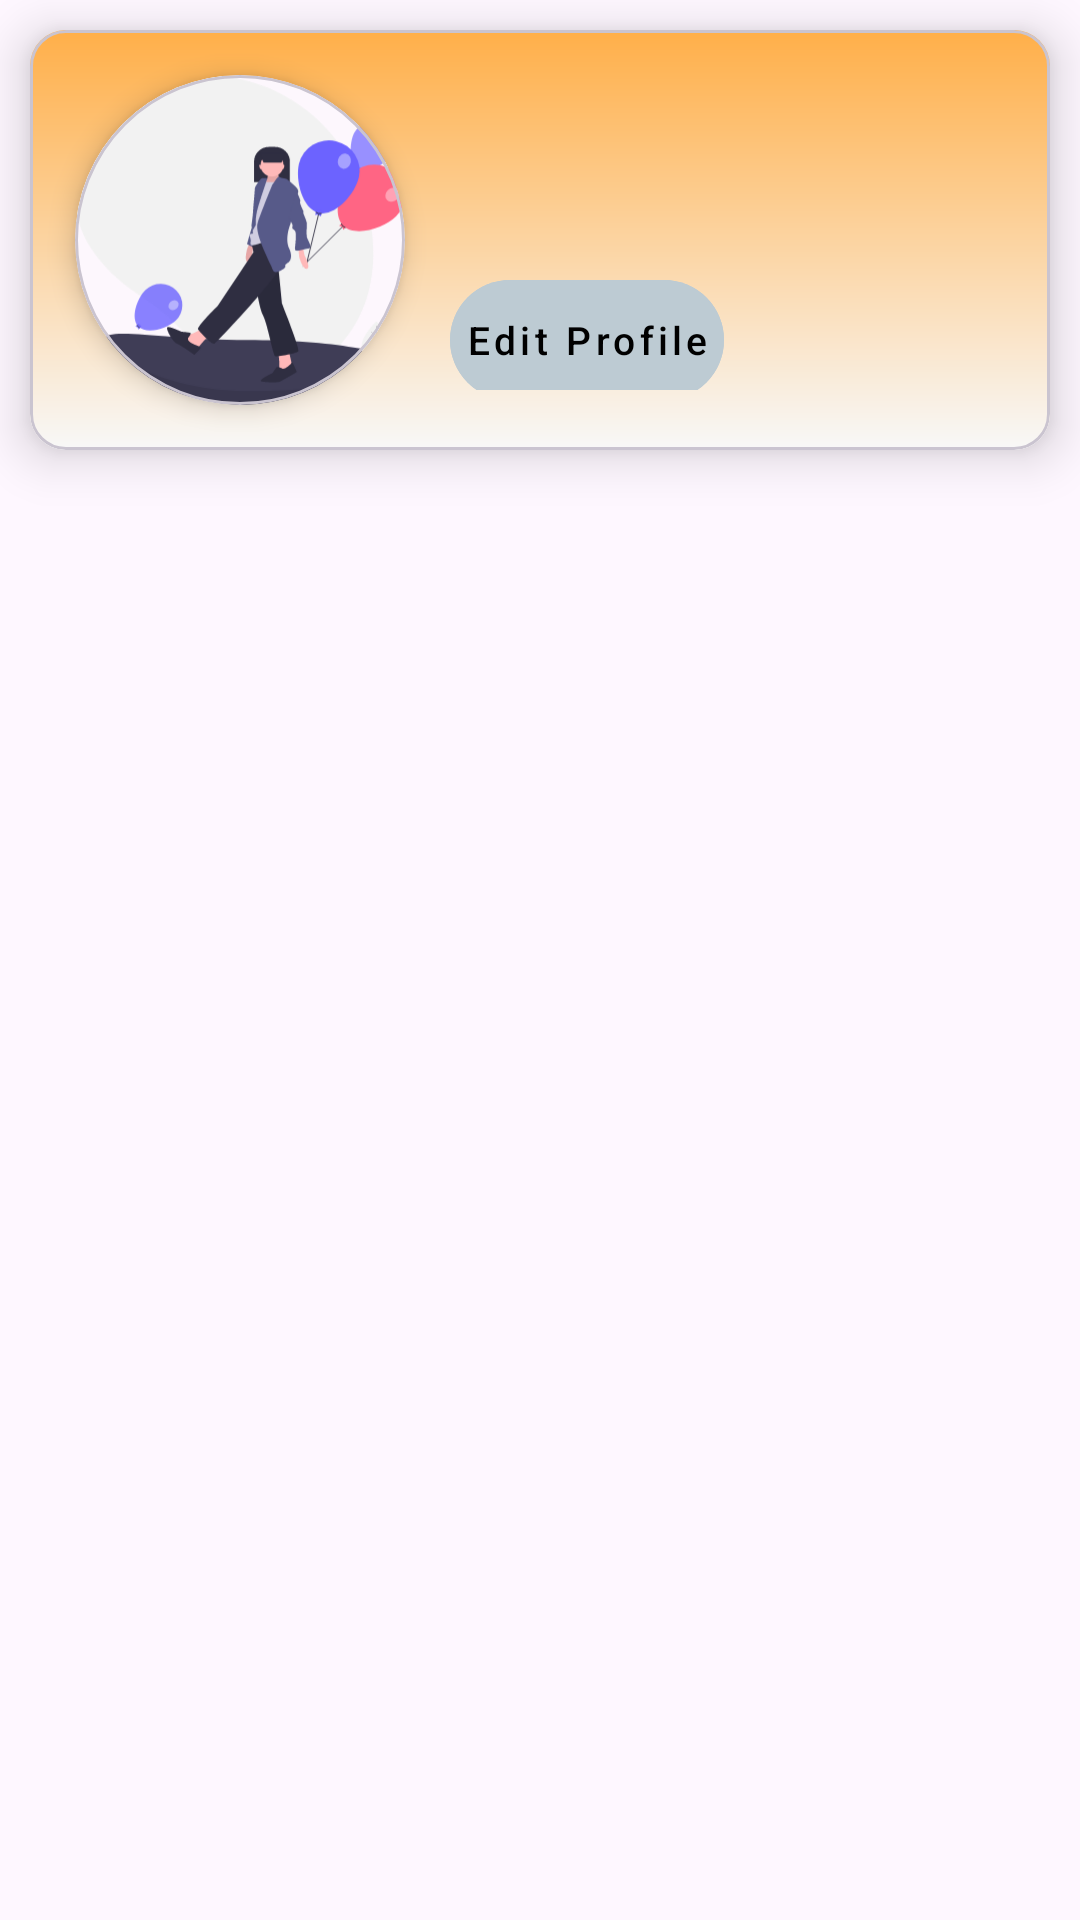

Icons on this 1080px×1920px Android screen, each with the point to tap as (x,y):
user image: (240,240)
